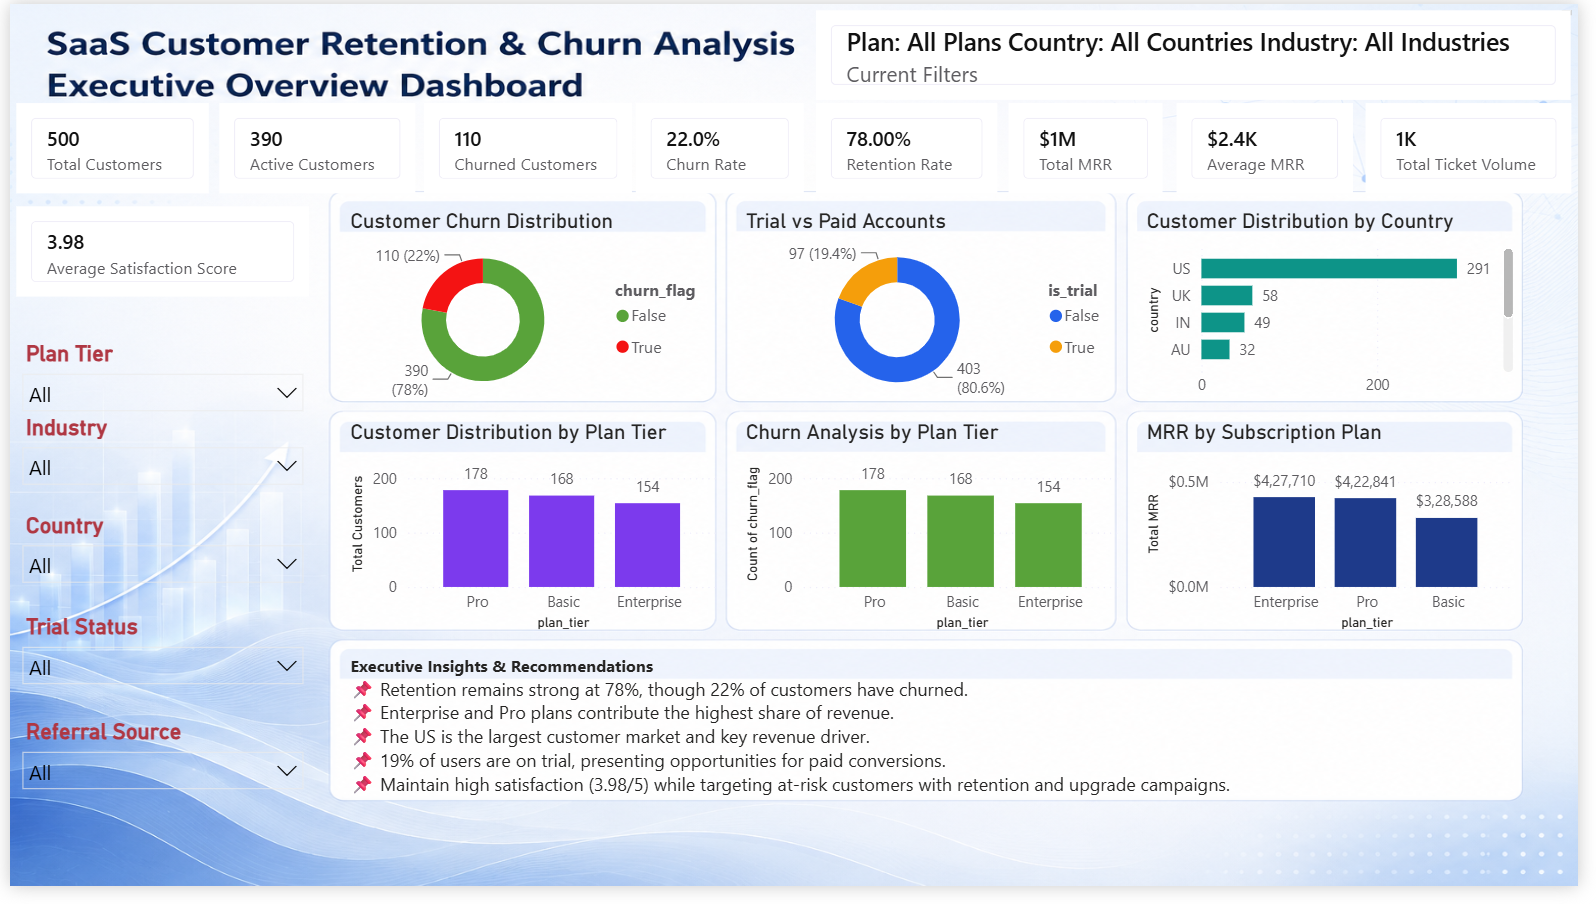

What the dashboard file says about the page in this screenshot:
{"tool":"powerbi","page":{"name":"Page 1","canvas":[1280,720],"ordinal":0},"visuals":[{"type":"textbox","box":[297.2,0,982.6,13.9],"z":0},{"type":"cardVisual","fields":{"Data":["Dim_Customers.Retention Rate"]},"box":[653.2,75.4,158.4,84.8],"z":1000},{"type":"cardVisual","fields":{"Data":["Dim_Customers.Total MRR"]},"box":[810.6,75.4,136.7,84.8],"z":2000},{"type":"cardVisual","fields":{"Data":["Dim_Customers.Churned Customers"]},"box":[332.7,75.5,180.2,84.7],"z":3000},{"type":"cardVisual","fields":{"Data":["Dim_Customers.Average MRR"]},"box":[947.3,75.4,154.6,84.8],"z":4000},{"type":"cardVisual","fields":{"Data":["Dim_Customers.Churn Rate"]},"box":[505.2,75.4,148,84.8],"z":5000},{"type":"cardVisual","fields":{"Data":["Dim_Customers.Average Satisfaction Score"]},"box":[0,160.2,249.5,84.7],"z":6000},{"type":"slicer","fields":{"Values":["Dim_Customers.plan_tier"]},"box":[0,269.5,249.5,77],"z":7000},{"type":"slicer","fields":{"Values":["Dim_Customers.country"]},"box":[0,409.7,249.5,83.2],"z":8000},{"type":"slicer","fields":{"Values":["Dim_Customers.industry"]},"box":[0,329.6,249.5,80.1],"z":9000},{"type":"slicer","fields":{"Values":["Dim_Customers.referral_source"]},"box":[0,579.1,249.5,84.7],"z":10000},{"type":"slicer","fields":{"Values":["Dim_Customers.is_trial"]},"box":[0,492.8,249.5,86.2],"z":11000},{"type":"donutChart","title":"Customer Churn Distribution","fields":{"Category":["Dim_Customers.churn_flag"],"Y":["CountNonNull(Dim_Customers.account_id)"]},"box":[272.4,167.8,310.1,162.1],"z":12000},{"type":"clusteredColumnChart","title":"Customer Distribution by Plan Tier","fields":{"Category":["Dim_Customers.plan_tier"],"Y":["Dim_Customers.Total Customers"]},"box":[272.4,340.3,310,175.3],"z":13000},{"type":"columnChart","title":"Churn Analysis by Plan Tier","fields":{"Category":["Dim_Customers.plan_tier"],"Y":["CountNonNull(Dim_Customers.churn_flag)"]},"box":[595.7,340.3,315.8,175.3],"z":14000},{"type":"columnChart","title":"MRR by Subscription Plan","fields":{"Category":["Dim_Customers.plan_tier"],"Y":["Dim_Customers.Total MRR"]},"box":[922.8,340.3,309.2,175.3],"z":15000},{"type":"clusteredBarChart","title":"Customer Distribution by Country","fields":{"Category":["Dim_Customers.country"],"Y":["Dim_Customers.Total Customers"]},"box":[922.8,167.8,309.2,162.1],"z":16000},{"type":"donutChart","title":"Trial vs Paid Accounts","fields":{"Category":["Dim_Customers.is_trial"],"Y":["CountNonNull(Dim_Customers.account_id)"]},"box":[595.7,167.8,315.8,162.1],"z":17000},{"type":"cardVisual","fields":{"Data":["Dim_Customers.Total Ticket Volume"]},"box":[1101.9,75.4,178.1,84.8],"z":18000},{"type":"cardVisual","fields":{"Data":["Dim_Customers.Current Filters"]},"box":[653.2,0,626,83],"z":19000},{"type":"cardVisual","fields":{"Data":["Dim_Customers.Total Customers"]},"box":[0,75.5,167.9,84.7],"z":20000},{"type":"cardVisual","fields":{"Data":["Dim_Customers.Active Customers"]},"box":[166.3,75.5,170.9,84.7],"z":21000},{"type":"textbox","box":[272.4,525,959.5,126.3],"z":22000}]}

Visuals, with their boxes in screenshot pixels (x1, y1, x2, y2), scaled from the page's 1280x720 canvas onto the 1596x904 screenshot:
textbox: [371,0,1595,17]
cardVisual - Dim_Customers.Retention Rate: [814,95,1012,201]
cardVisual - Dim_Customers.Total MRR: [1011,95,1181,201]
cardVisual - Dim_Customers.Churned Customers: [415,95,640,201]
cardVisual - Dim_Customers.Average MRR: [1181,95,1374,201]
cardVisual - Dim_Customers.Churn Rate: [630,95,814,201]
cardVisual - Dim_Customers.Average Satisfaction Score: [0,201,311,307]
slicer - Dim_Customers.plan_tier: [0,338,311,435]
slicer - Dim_Customers.country: [0,514,311,619]
slicer - Dim_Customers.industry: [0,414,311,514]
slicer - Dim_Customers.referral_source: [0,727,311,833]
slicer - Dim_Customers.is_trial: [0,619,311,727]
"Customer Churn Distribution" donutChart: [340,211,726,414]
"Customer Distribution by Plan Tier" clusteredColumnChart: [340,427,726,647]
"Churn Analysis by Plan Tier" columnChart: [743,427,1137,647]
"MRR by Subscription Plan" columnChart: [1151,427,1536,647]
"Customer Distribution by Country" clusteredBarChart: [1151,211,1536,414]
"Trial vs Paid Accounts" donutChart: [743,211,1137,414]
cardVisual - Dim_Customers.Total Ticket Volume: [1374,95,1595,201]
cardVisual - Dim_Customers.Current Filters: [814,0,1595,104]
cardVisual - Dim_Customers.Total Customers: [0,95,209,201]
cardVisual - Dim_Customers.Active Customers: [207,95,420,201]
textbox: [340,659,1536,818]
